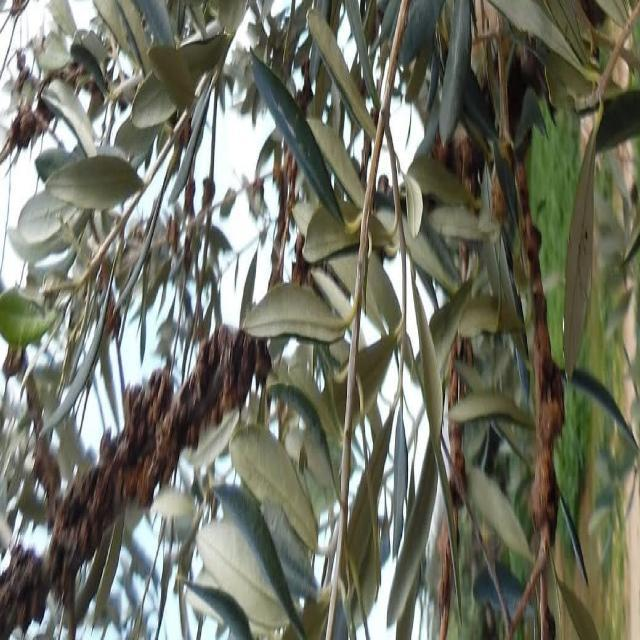Tuberculosis: (0, 324, 271, 638), (512, 150, 564, 557)
